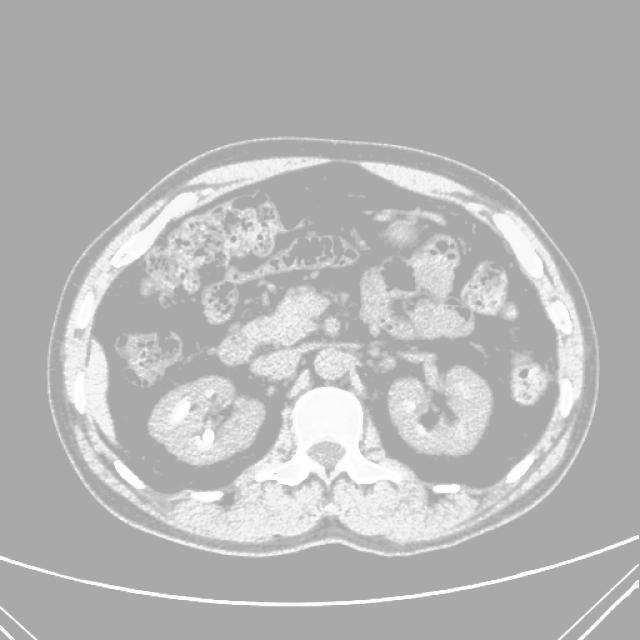STONE: (125, 298, 521, 470)
